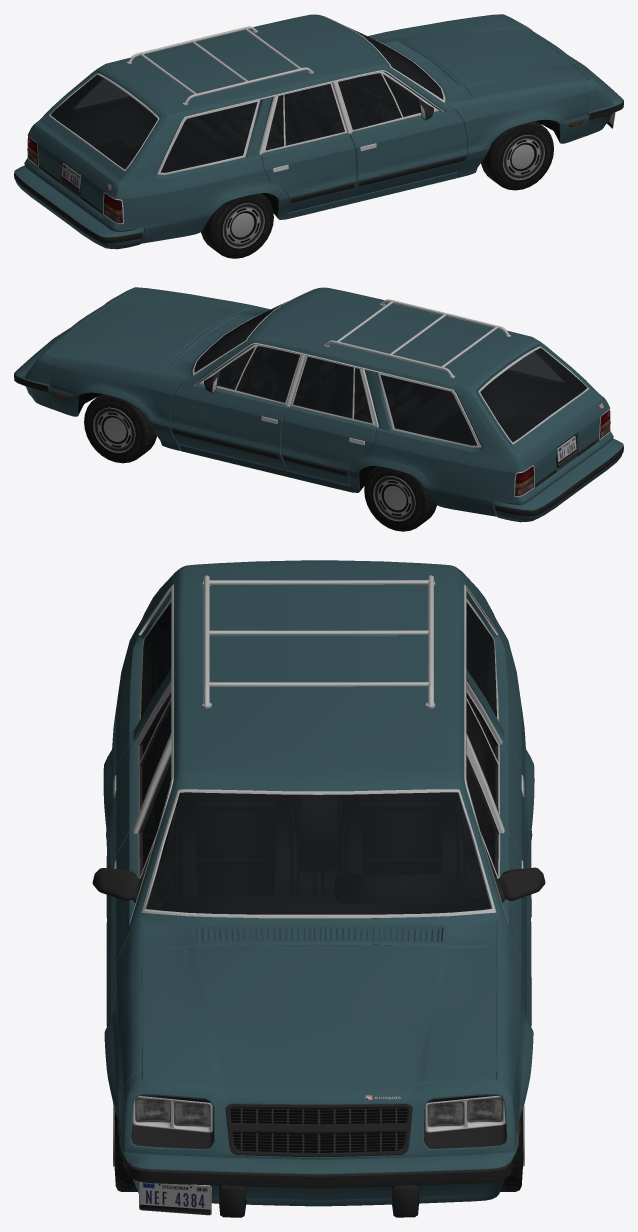
The model's file is fairheaven-sw-84-aa0bec.glb.
The picture shows the model from 3 angles, top to bottom: view 1: azimuth 30°, elevation 25°; view 2: azimuth 150°, elevation 25°; view 3: azimuth 270°, elevation 25°; orthographic projection. The views are drawn at different scales.
Visible parts, largest first — view 1: Fairheaven_LT84_Bumper_Rear001_Fairheaven_LT80_Bodymat_0, Fairheaven_LT80_Glass_Driver007_UCB_Lights_and_Glass_Transpe, Fairheaven_LT80_Interior_Trim005_UCB_Interior_Trim_0, Fairheaven_LT80_Bottom006_UCB_BOTTOM_GT_0, Fairheaven_LT80_WheelStock_FL002_RB1c_Tire_1k_0, Fairheaven_LT80_Brakelights006_UCB_Lights_and_Glass_0, Fairheaven_SW84_Numberplate_Front001_Numberplates_Misk_U_0; view 2: Fairheaven_LT84_Bumper_Rear001_Fairheaven_LT80_Bodymat_0, Fairheaven_LT80_Glass_Driver007_UCB_Lights_and_Glass_Transpe, Fairheaven_LT80_Interior_Trim005_UCB_Interior_Trim_0, Fairheaven_LT80_Bottom006_UCB_BOTTOM_GT_0, Fairheaven_LT80_WheelStock_FL002_RB1c_Tire_1k_0, Fairheaven_LT80_Brakelights006_UCB_Lights_and_Glass_0, Fairheaven_SW84_Numberplate_Front001_Numberplates_Misk_U_0; view 3: Fairheaven_LT84_Bumper_Rear001_Fairheaven_LT80_Bodymat_0, Fairheaven_LT80_Glass_Driver007_UCB_Lights_and_Glass_Transpe, Fairheaven_LT80_Interior_Trim005_UCB_Interior_Trim_0, Fairheaven_LT80_Bottom006_UCB_BOTTOM_GT_0, Fairheaven_LT80_Brakelights006_UCB_Lights_and_Glass_0, Fairheaven_SW84_Numberplate_Front001_Numberplates_Misk_U_0, Fairheaven_LT80_WheelStock_FL002_RB1c_Tire_1k_0.
Boxes of the visible parts, x1,y1,x2,y2 form: Fairheaven_LT84_Bumper_Rear001_Fairheaven_LT80_Bodymat_0: (14, 14, 622, 249); Fairheaven_LT80_Glass_Driver007_UCB_Lights_and_Glass_Transpe: (27, 27, 443, 221); Fairheaven_LT80_Interior_Trim005_UCB_Interior_Trim_0: (51, 38, 443, 172); Fairheaven_LT80_Bottom006_UCB_BOTTOM_GT_0: (14, 15, 623, 243); Fairheaven_LT80_WheelStock_FL002_RB1c_Tire_1k_0: (201, 121, 553, 258); Fairheaven_LT80_Brakelights006_UCB_Lights_and_Glass_0: (27, 137, 122, 223); Fairheaven_SW84_Numberplate_Front001_Numberplates_Misk_U_0: (61, 112, 615, 192); Fairheaven_LT84_Bumper_Rear001_Fairheaven_LT80_Bodymat_0: (15, 287, 623, 522); Fairheaven_LT80_Glass_Driver007_UCB_Lights_and_Glass_Transpe: (194, 301, 610, 494); Fairheaven_LT80_Interior_Trim005_UCB_Interior_Trim_0: (195, 311, 586, 445); Fairheaven_LT80_Bottom006_UCB_BOTTOM_GT_0: (14, 288, 623, 515); Fairheaven_LT80_WheelStock_FL002_RB1c_Tire_1k_0: (84, 394, 436, 531); Fairheaven_LT80_Brakelights006_UCB_Lights_and_Glass_0: (515, 412, 610, 496); Fairheaven_SW84_Numberplate_Front001_Numberplates_Misk_U_0: (557, 436, 576, 465); Fairheaven_LT84_Bumper_Rear001_Fairheaven_LT80_Bodymat_0: (103, 560, 534, 1206); Fairheaven_LT80_Glass_Driver007_UCB_Lights_and_Glass_Transpe: (135, 602, 502, 1125); Fairheaven_LT80_Interior_Trim005_UCB_Interior_Trim_0: (141, 620, 496, 945); Fairheaven_LT80_Bottom006_UCB_BOTTOM_GT_0: (92, 575, 545, 1217); Fairheaven_LT80_Brakelights006_UCB_Lights_and_Glass_0: (135, 1098, 502, 1125); Fairheaven_SW84_Numberplate_Front001_Numberplates_Misk_U_0: (139, 1181, 211, 1215); Fairheaven_LT80_WheelStock_FL002_RB1c_Tire_1k_0: (113, 1103, 524, 1191).
Size of the model in its own units: 5.03 by 1.4 by 1.86.
Materials: 8 (7 with a texture image).
